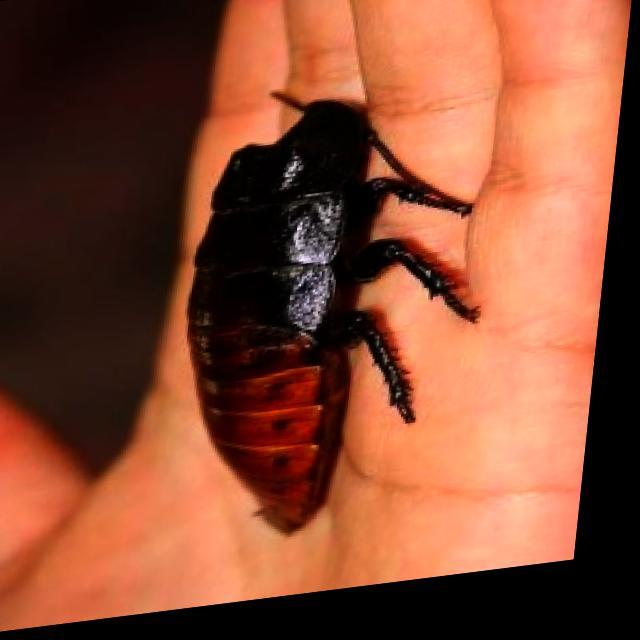cockroach: (182, 87, 486, 538)
